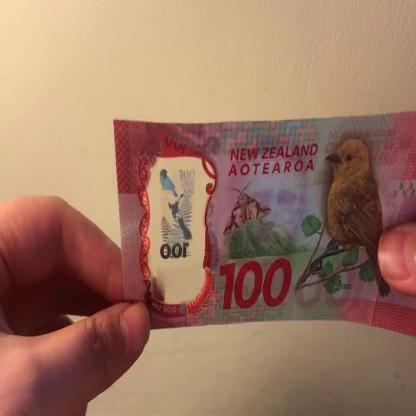100B: (157, 164, 200, 286)
